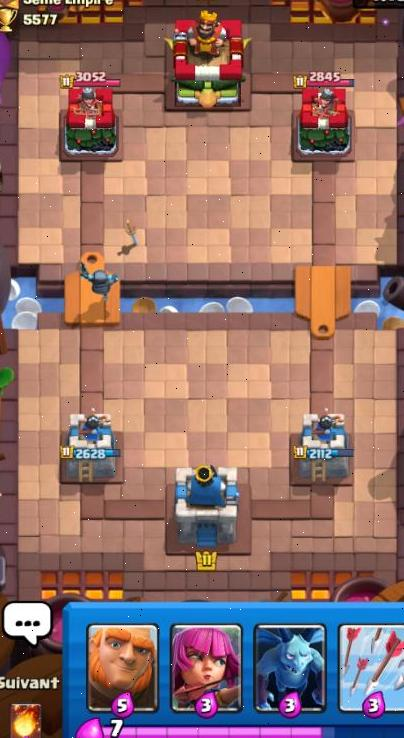player_mini_pekka: (75, 257, 125, 302)
